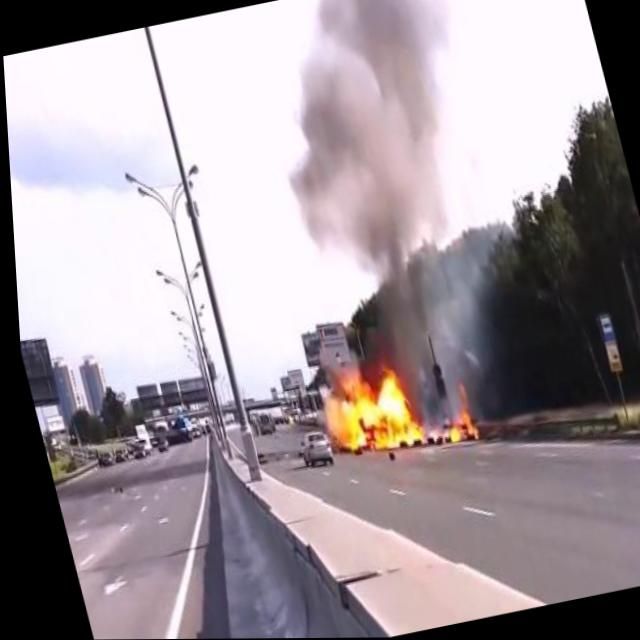fire: (317, 361, 426, 466), (430, 386, 476, 447)
